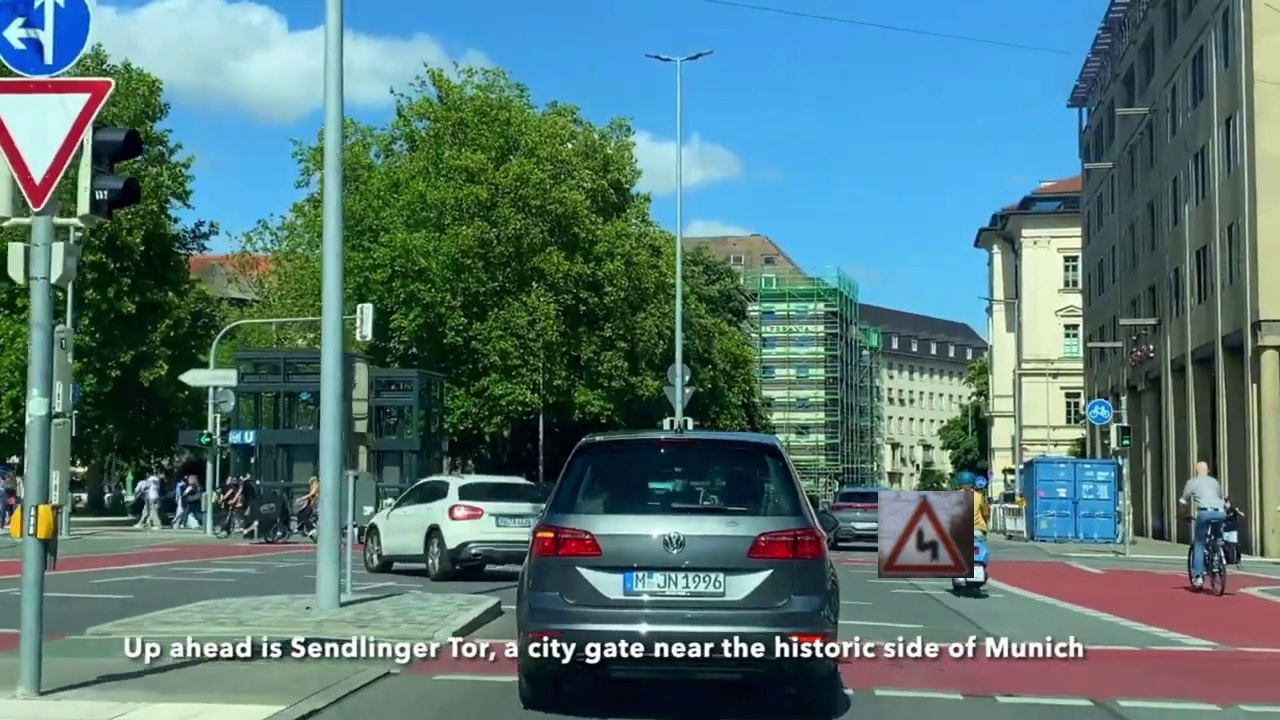Double curve: (878, 491, 974, 578)
